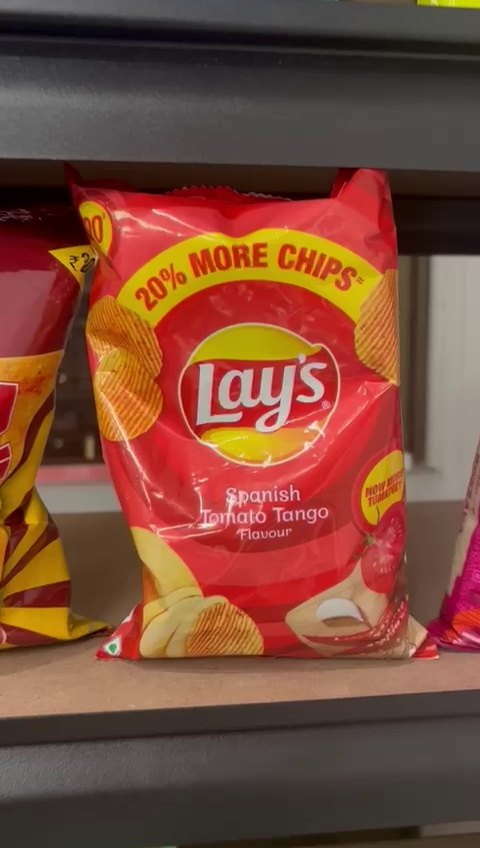Lays: (71, 189, 413, 655)
